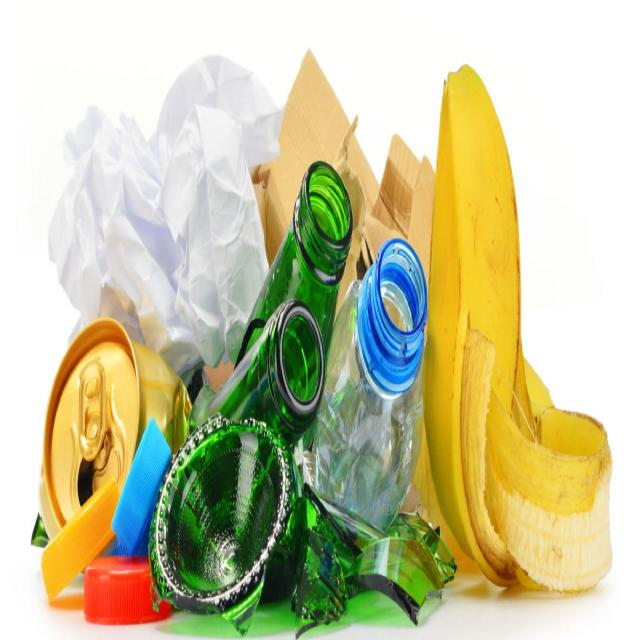Botella Plastica: (303, 223, 435, 551)
Cascara de banano: (417, 50, 619, 603)
Lata: (32, 306, 195, 553)
